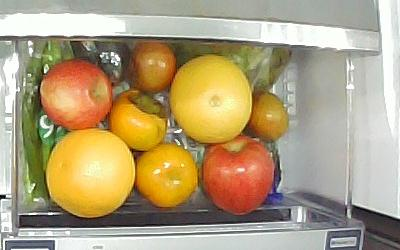apple: (200, 135, 275, 217), (39, 59, 114, 131)
grapefruit: (45, 128, 136, 218), (170, 55, 252, 143)
persimmon: (135, 142, 198, 208), (108, 90, 168, 151)
prune: (130, 42, 177, 92), (248, 91, 290, 141)
